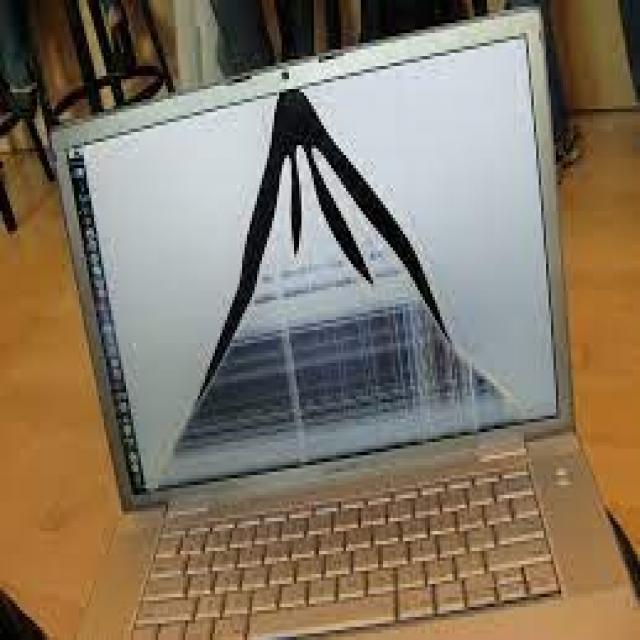Screen cracks: (136, 89, 532, 495)
